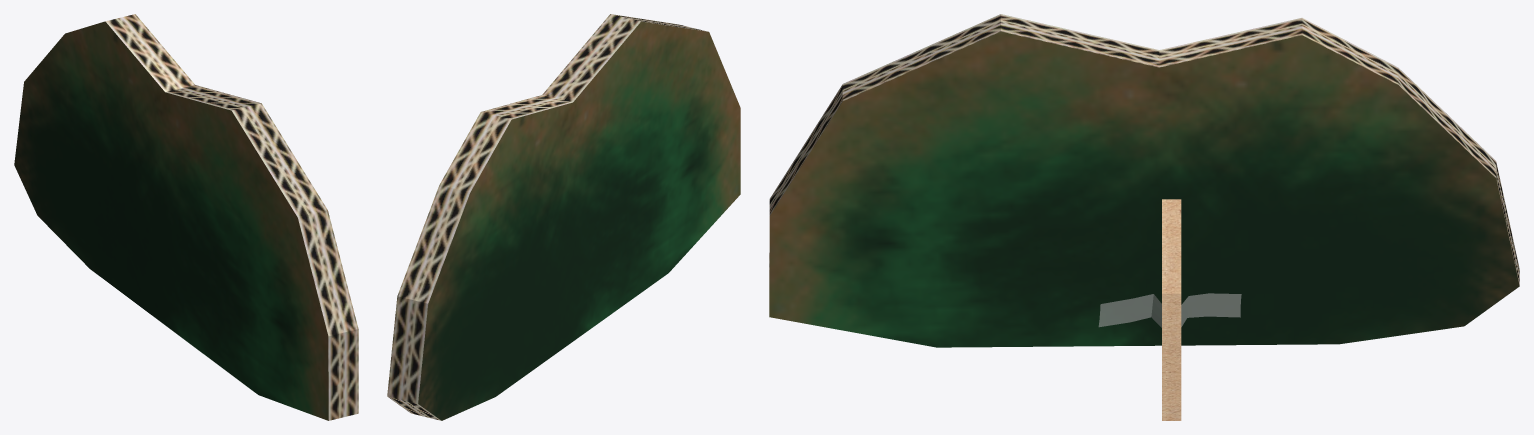
File: Cardboard_bush.fbx
3 views of the same model, side by side, from view 1: azimuth 30°, elevation 25°; view 2: azimuth 150°, elevation 25°; view 3: azimuth 270°, elevation 25° (orthographic). The views are drawn at different scales.
Parts seen in each view (by area): view 1: cardboard_bush; view 2: cardboard_bush; view 3: cardboard_bush.
Part boxes in pixels (x1,y1,x2,y2): cardboard_bush: [14, 14, 358, 420]; cardboard_bush: [387, 14, 740, 420]; cardboard_bush: [769, 14, 1519, 420].
Bounding box in the file's own units: 718 × 1218 × 2595.
